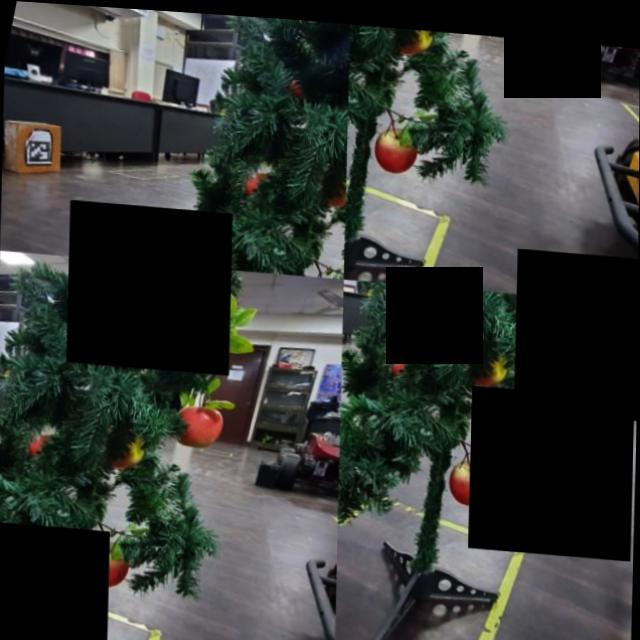Tree: (336, 275, 640, 640), (1, 250, 143, 640), (207, 12, 350, 275), (345, 20, 426, 281)
